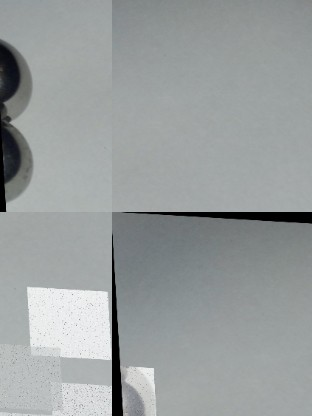ironball: (0, 120, 36, 201), (0, 40, 36, 120), (118, 375, 143, 415)
